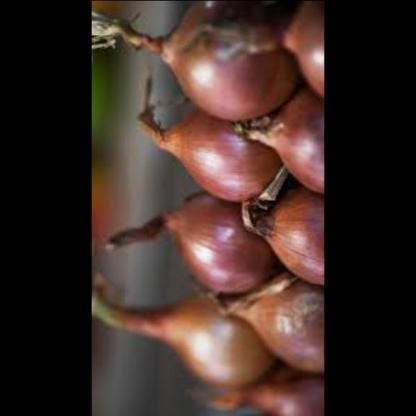onion: (139, 0, 293, 127), (140, 298, 288, 416), (146, 198, 292, 310), (146, 107, 297, 196), (217, 273, 324, 380), (238, 186, 323, 287), (242, 92, 323, 190), (262, 2, 324, 95)
